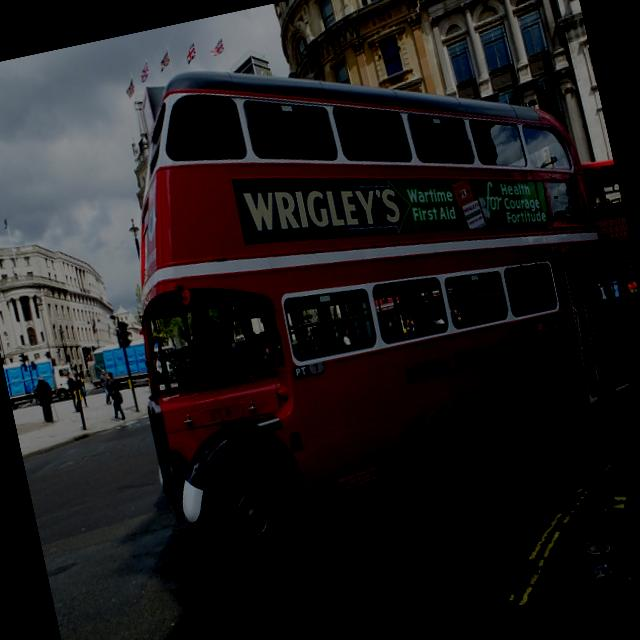Vehicle: (80, 0, 640, 590), (559, 157, 640, 370), (1, 348, 78, 411), (88, 338, 150, 386)
